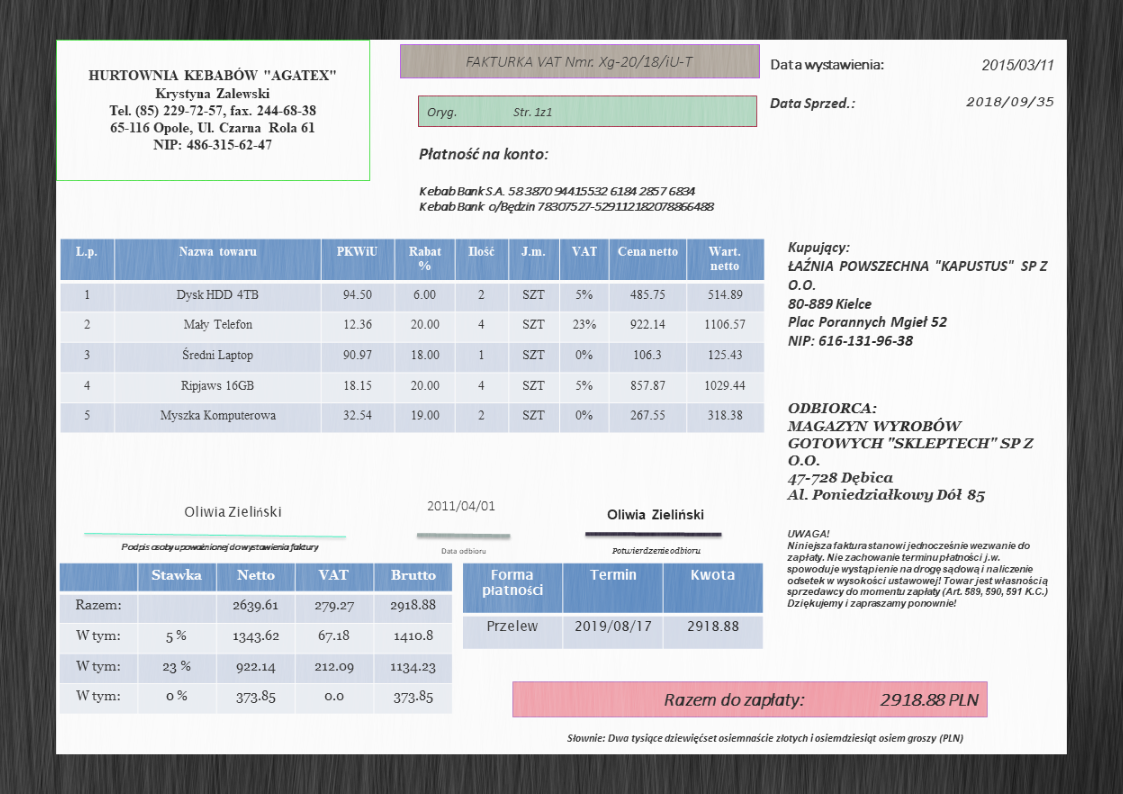Table: (58, 238, 766, 434), (58, 563, 453, 715), (461, 561, 764, 651)
TextBox: (784, 239, 1050, 350), (784, 400, 1036, 506), (84, 61, 340, 157), (785, 525, 1052, 610), (416, 182, 717, 214), (564, 727, 966, 747), (661, 688, 980, 710), (460, 52, 695, 70), (118, 539, 322, 555), (768, 54, 886, 77), (415, 145, 550, 164), (423, 103, 556, 121), (180, 501, 286, 520), (962, 93, 1056, 112), (768, 94, 857, 113), (603, 506, 706, 522), (980, 56, 1056, 73), (425, 498, 496, 515), (609, 544, 703, 556), (438, 546, 487, 555)
